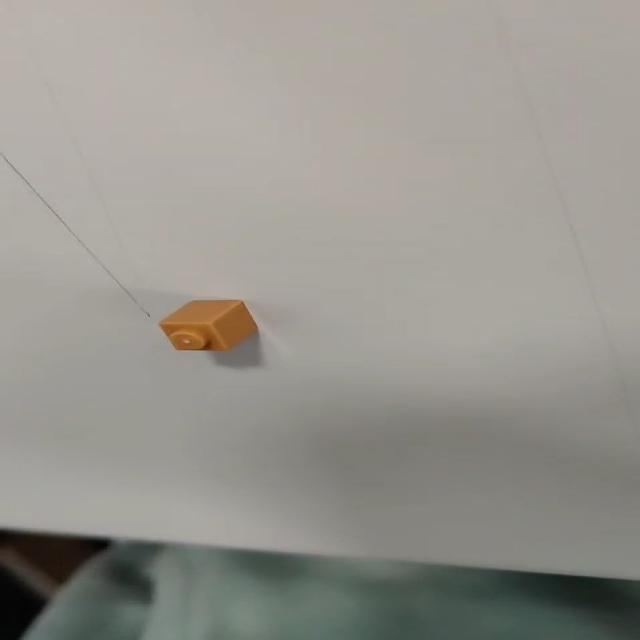C1x1x1: (156, 298, 258, 352)
